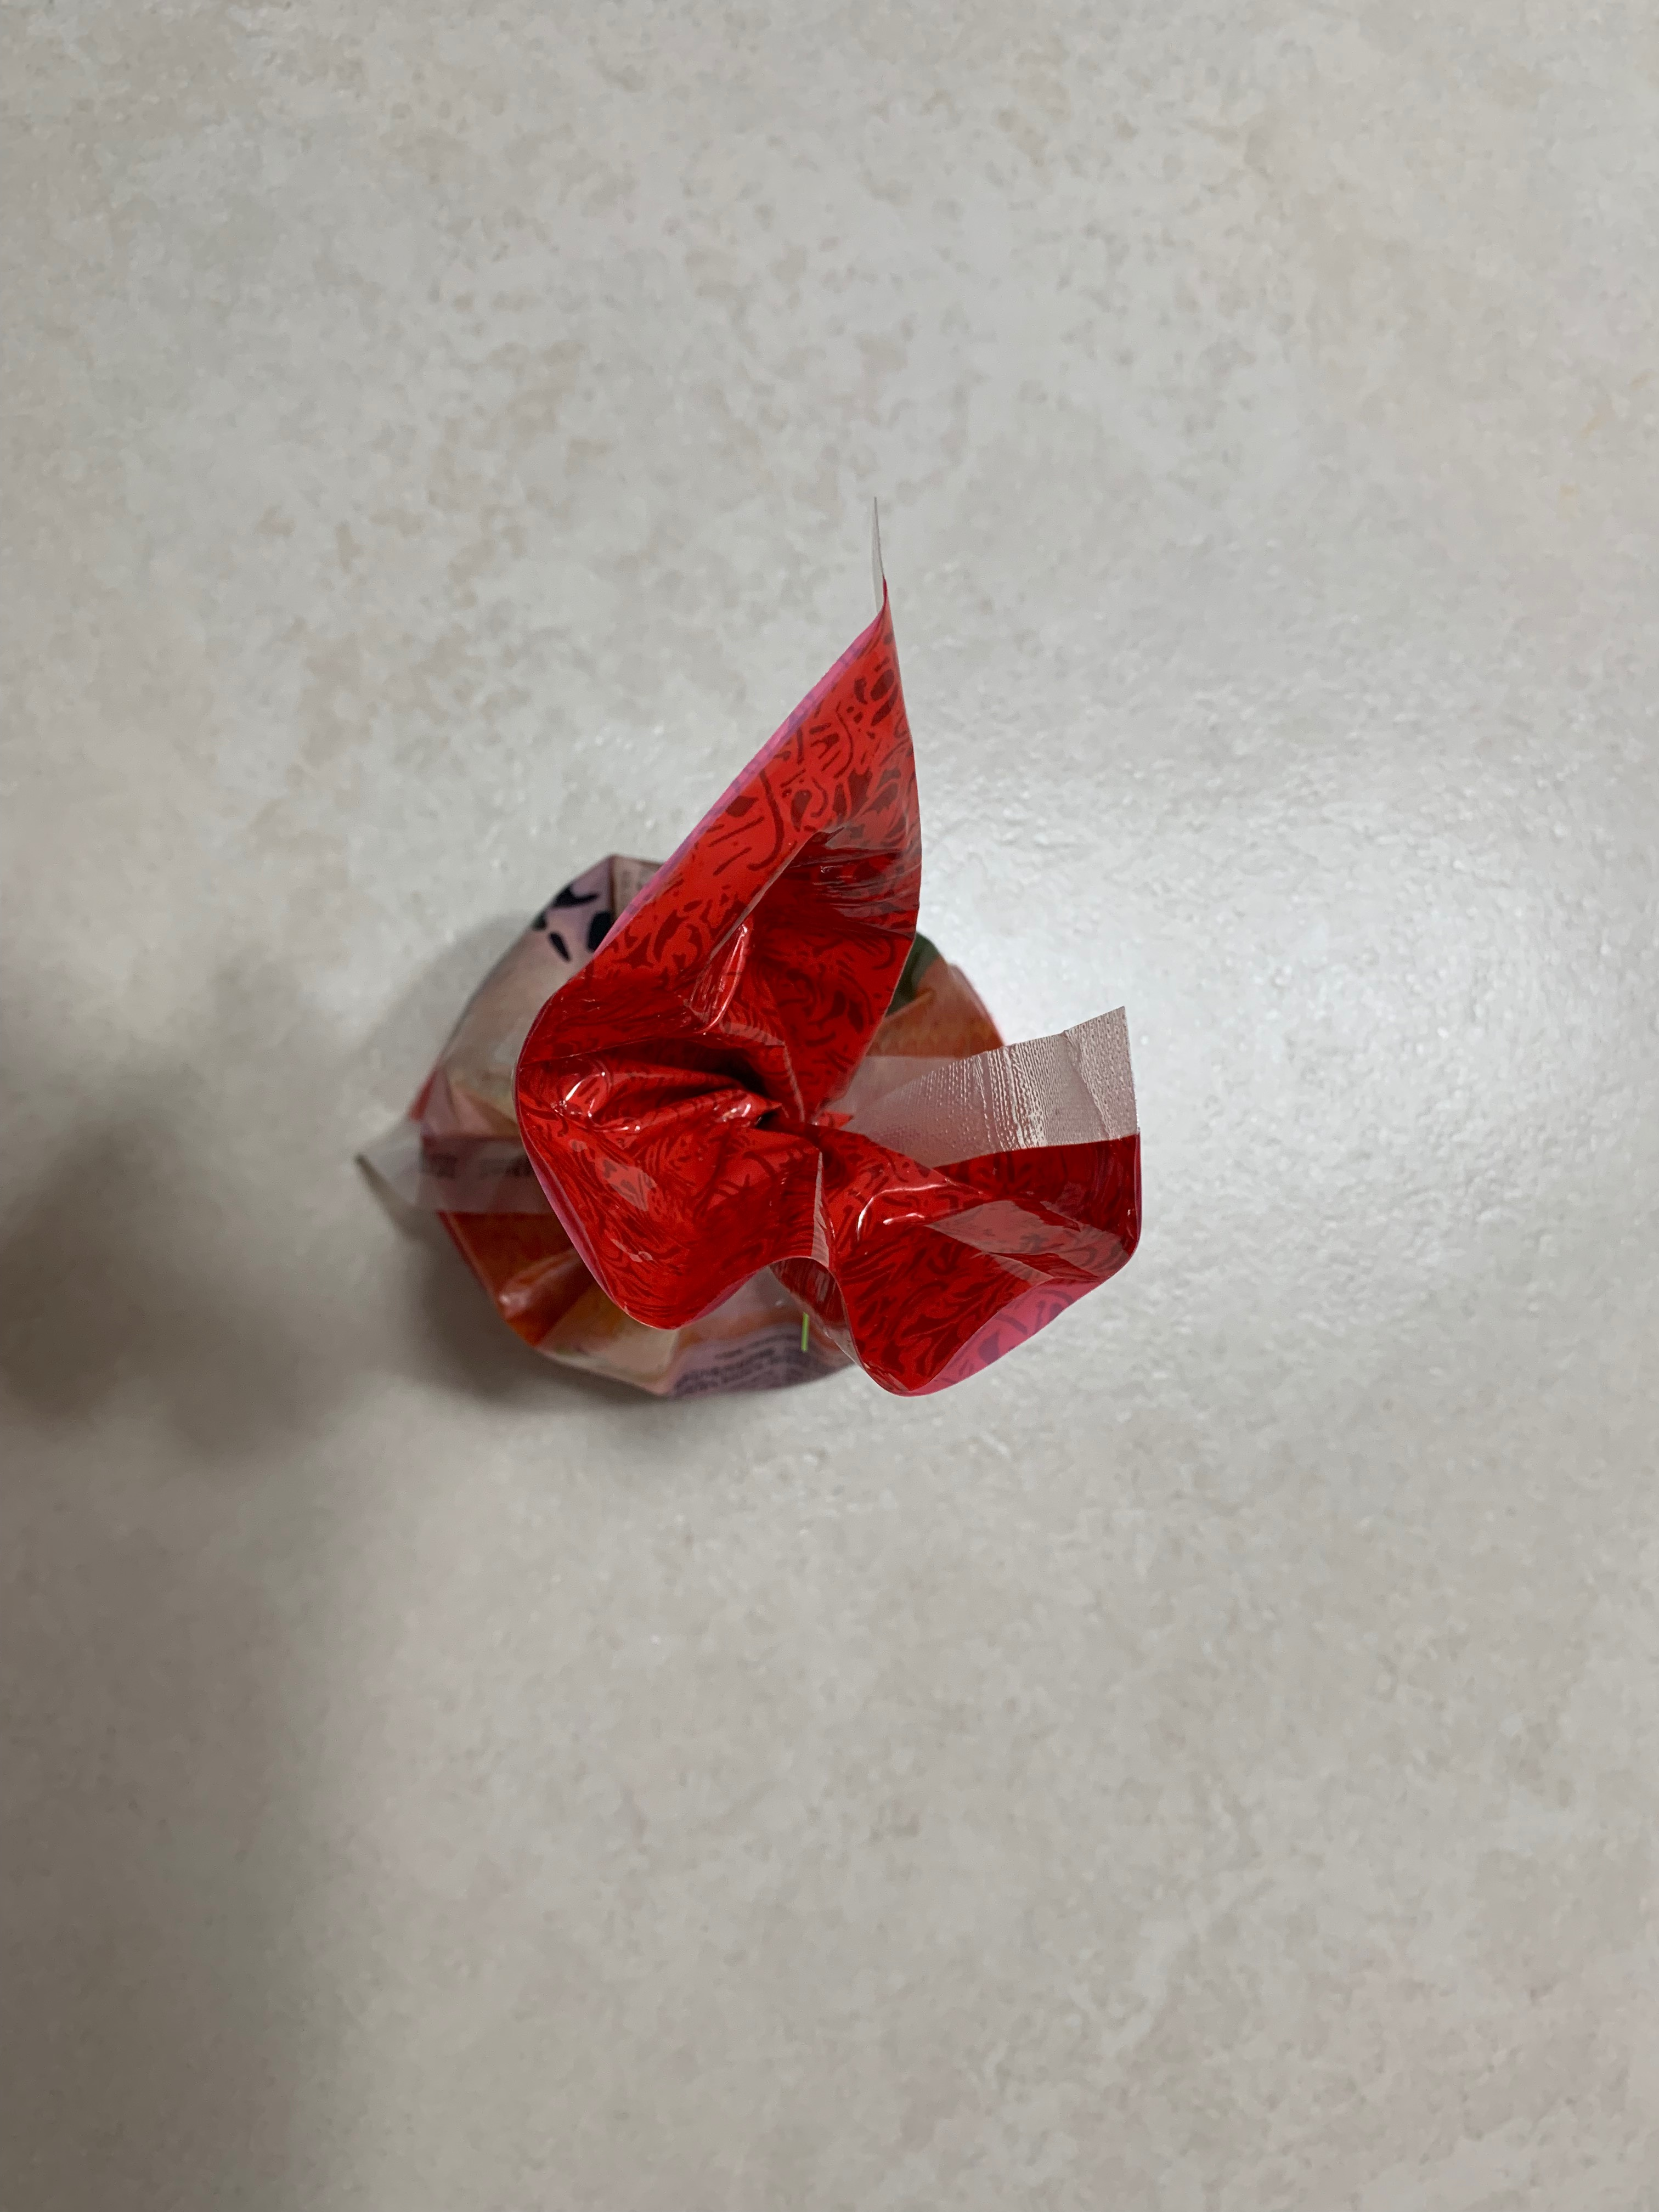kimchi: (418, 618, 1148, 1402)
